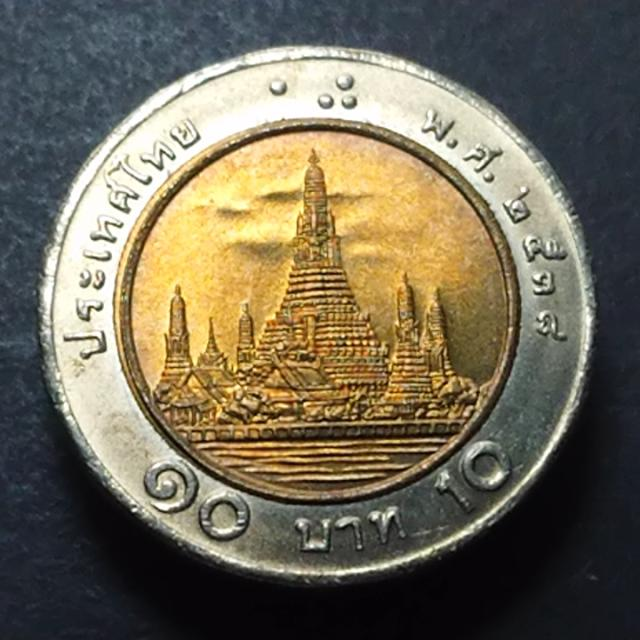10 Bath: (31, 43, 608, 599)
